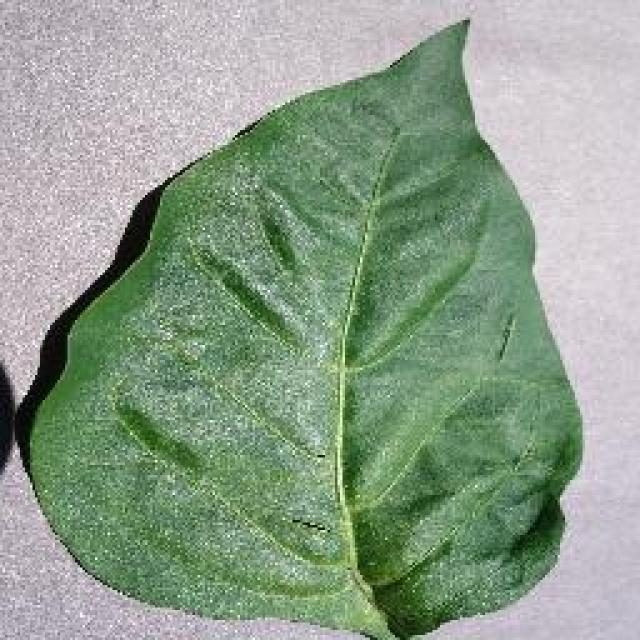Chilli_Healthy: (17, 15, 585, 637)
